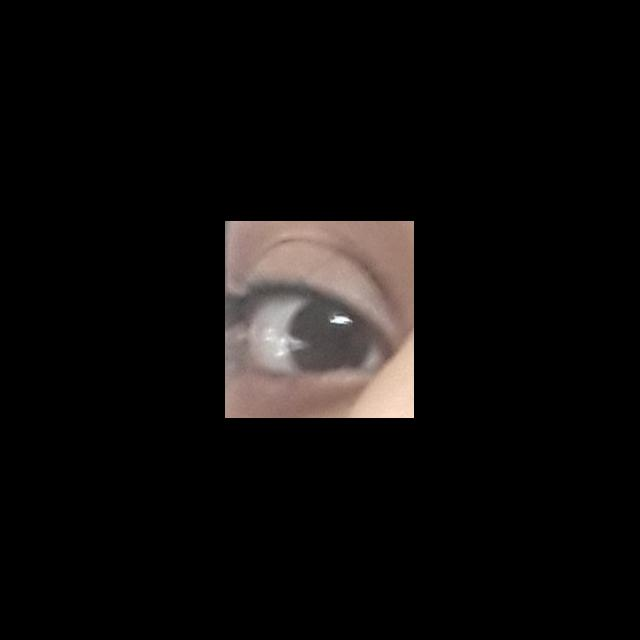eye: (248, 292, 382, 375)
iris: (287, 299, 370, 373)
